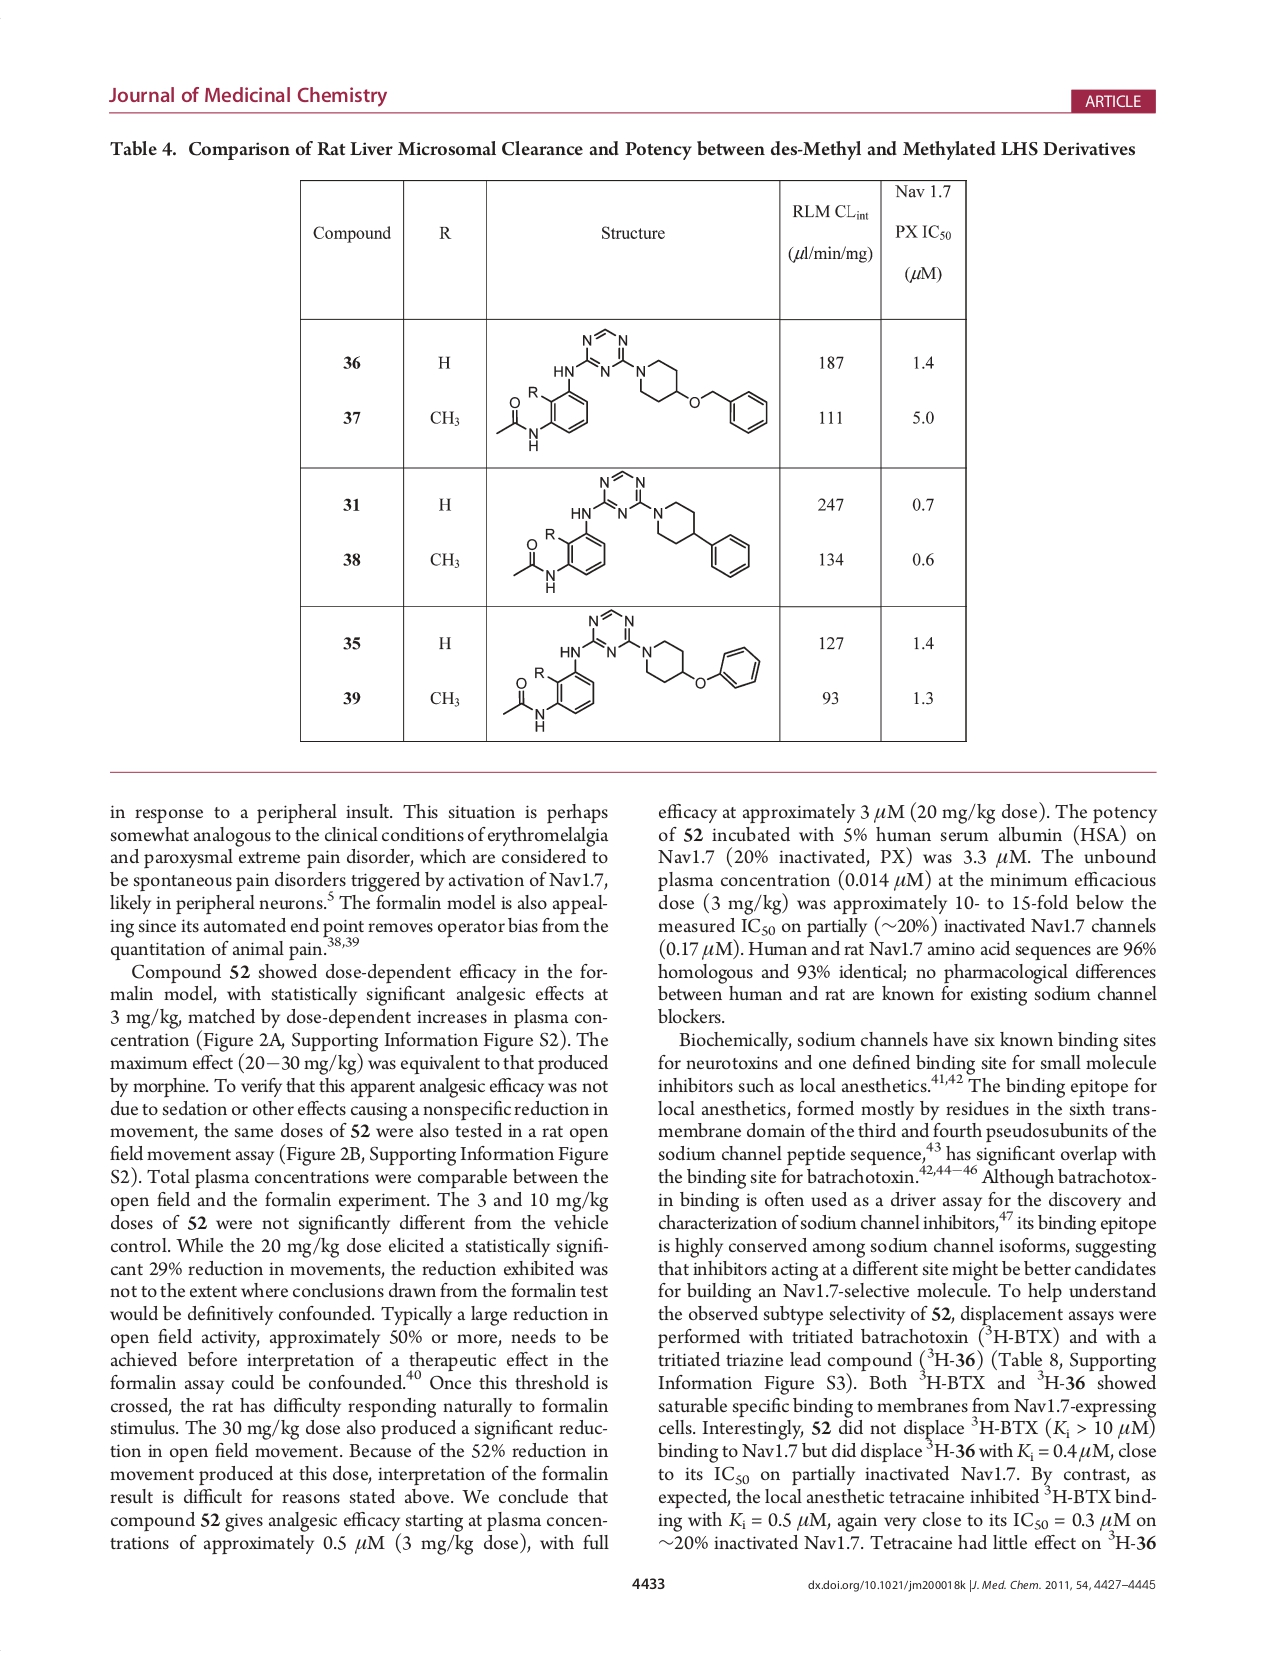exist_molecular: (492, 326, 773, 453), (499, 608, 766, 734), (515, 469, 755, 596)
